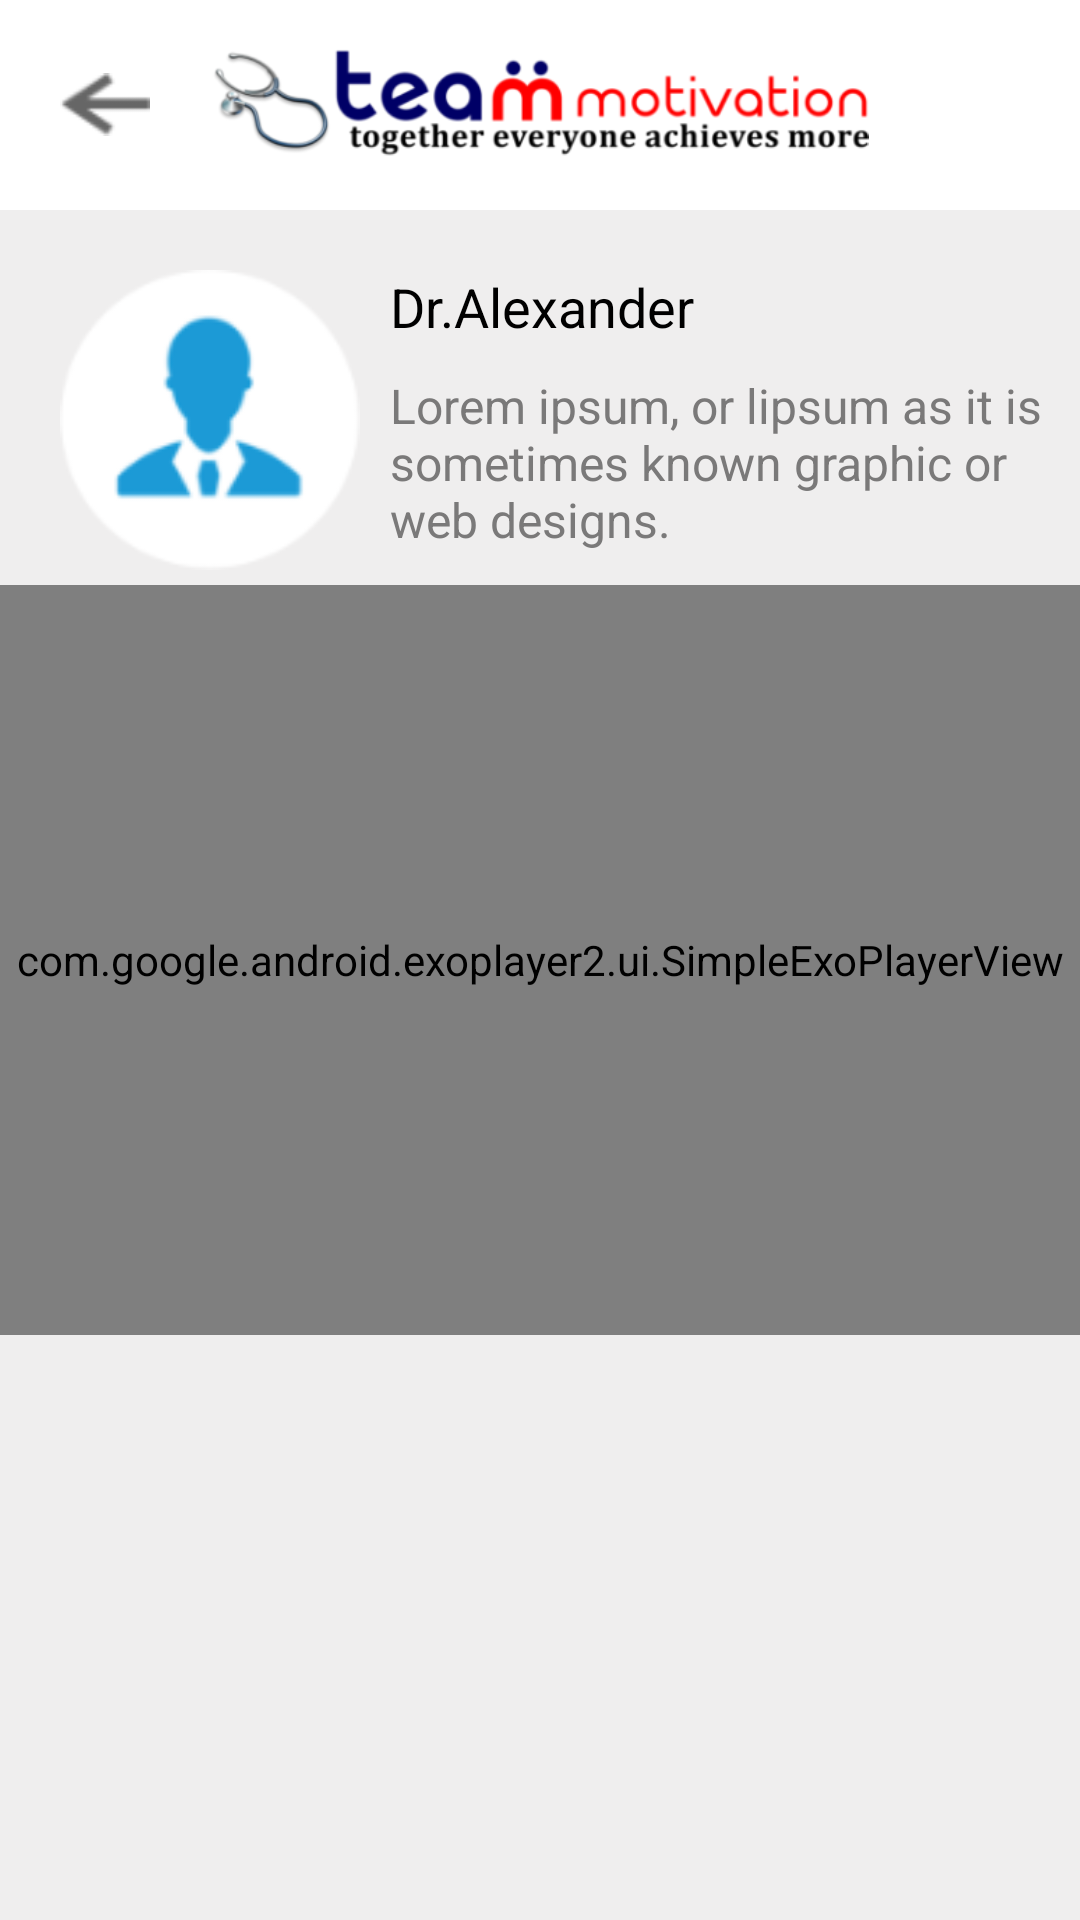

Locate icon controls on the screen. Image size 1080*1920, boxes as (x1, y1, x2, y2).
back arrow: (62, 73, 150, 136)
user profile: (60, 270, 358, 568)
